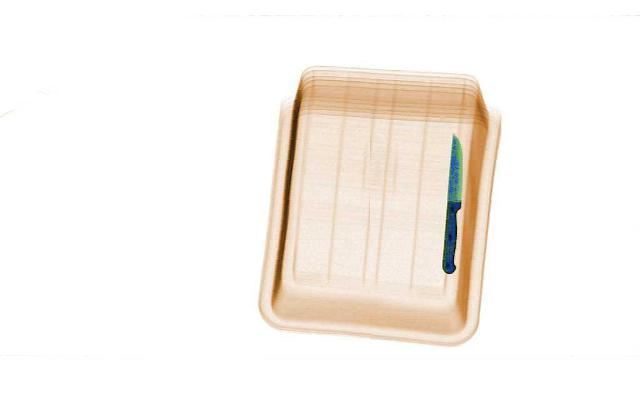Knife: (441, 134, 462, 272)
